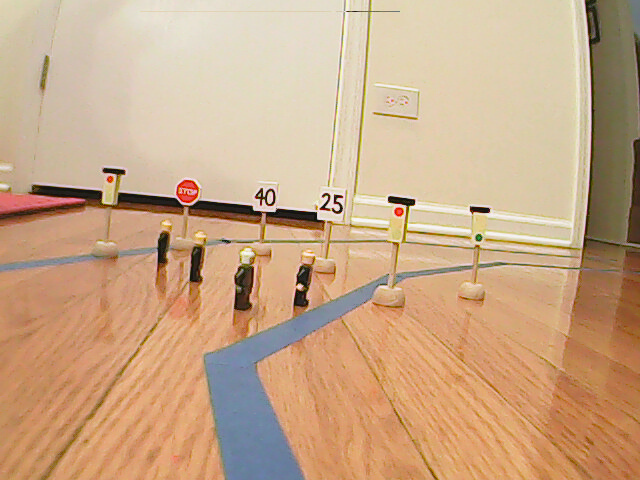Green Traffic Light: (469, 204, 491, 247)
Person: (230, 249, 258, 311), (292, 251, 320, 305), (185, 230, 209, 284), (154, 218, 175, 266)
Red Traffic Light: (386, 194, 409, 244), (98, 165, 124, 206)
Speed Limit 25: (319, 186, 344, 225)
Speed Limit 40: (253, 180, 279, 214)
Stop Sign: (174, 178, 201, 206)
